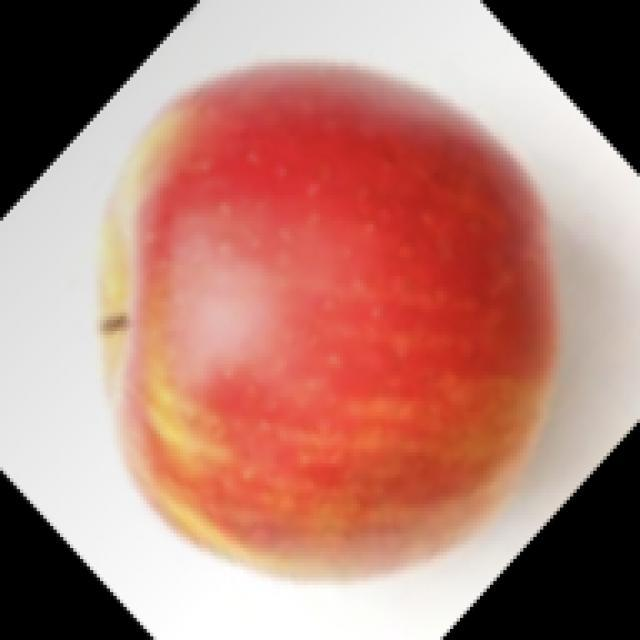Fresh Apple: (89, 57, 574, 580)
